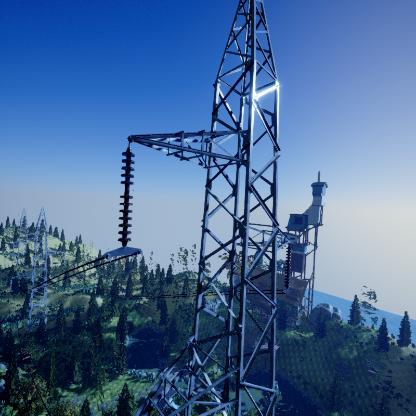insulator: (115, 149, 136, 245), (284, 245, 293, 290)
